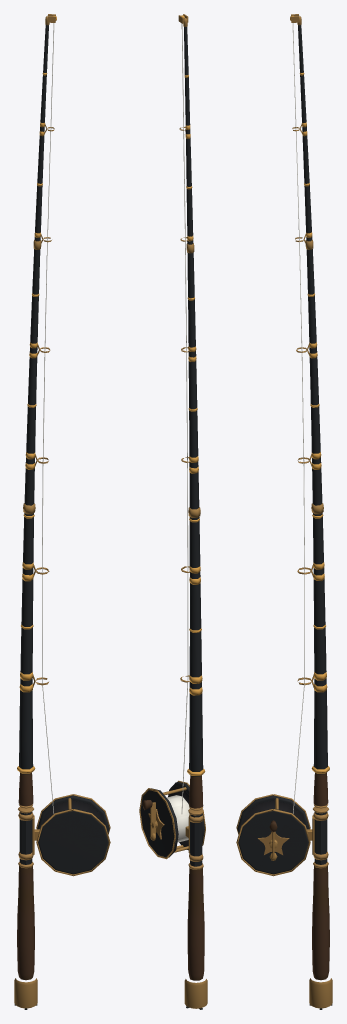
Rendered from tool_fishing_rod_offshore_a.glb.
3 renders of one model, left to right at view 1: azimuth 90°, elevation 25°; view 2: azimuth 210°, elevation 25°; view 3: azimuth 270°, elevation 25°, orthographic.
Visible parts, largest first — view 1: tool_fishing_rod_offshore_a_mesh, rod_reel_spool; view 2: tool_fishing_rod_offshore_a_mesh, rod_reel_line_coil, rod_reel_spool, rod_reel_crank_arm; view 3: tool_fishing_rod_offshore_a_mesh, rod_reel_spool.
Part boxes in pixels (x1=…): tool_fishing_rod_offshore_a_mesh: x1=14, y1=23, x2=110, y2=1009; rod_reel_spool: x1=43, y1=800, x2=103, y2=823; tool_fishing_rod_offshore_a_mesh: x1=139, y1=23, x2=207, y2=1009; rod_reel_line_coil: x1=166, y1=795, x2=189, y2=842; rod_reel_spool: x1=168, y1=786, x2=189, y2=846; rod_reel_crank_arm: x1=150, y1=802, x2=155, y2=840; tool_fishing_rod_offshore_a_mesh: x1=236, y1=23, x2=332, y2=1009; rod_reel_spool: x1=243, y1=800, x2=303, y2=823.
Bounding box in the file's own units: 0.1583 × 3.27 × 0.2885.
